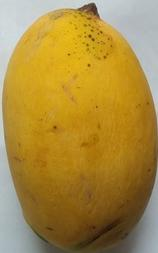Ripe: (1, 1, 158, 253)
